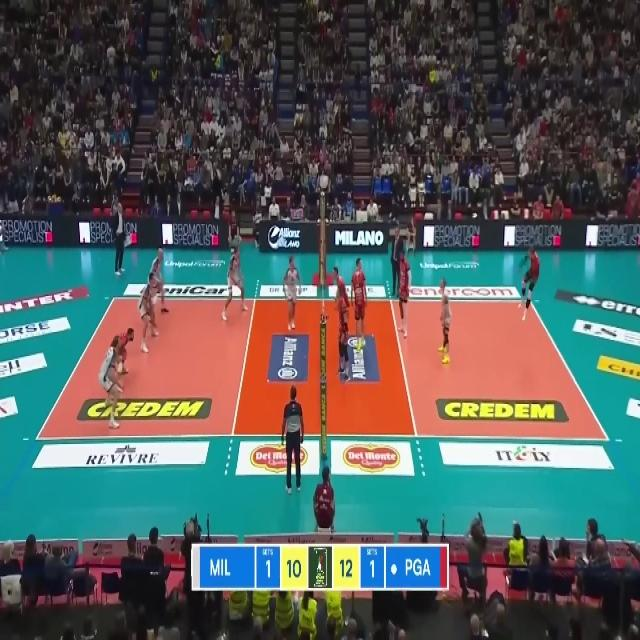volleyball court: (34, 292, 611, 440)
